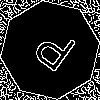P: (25, 25, 79, 82)
